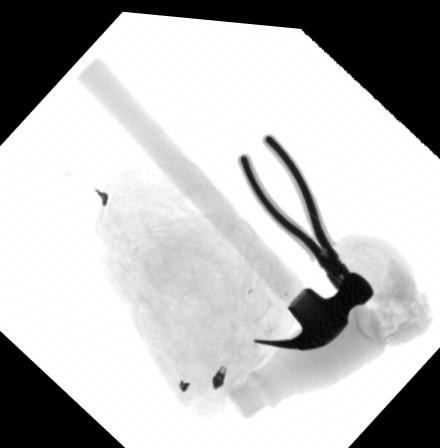Hammer: (76, 50, 373, 344)
Pliers: (236, 127, 359, 296)
